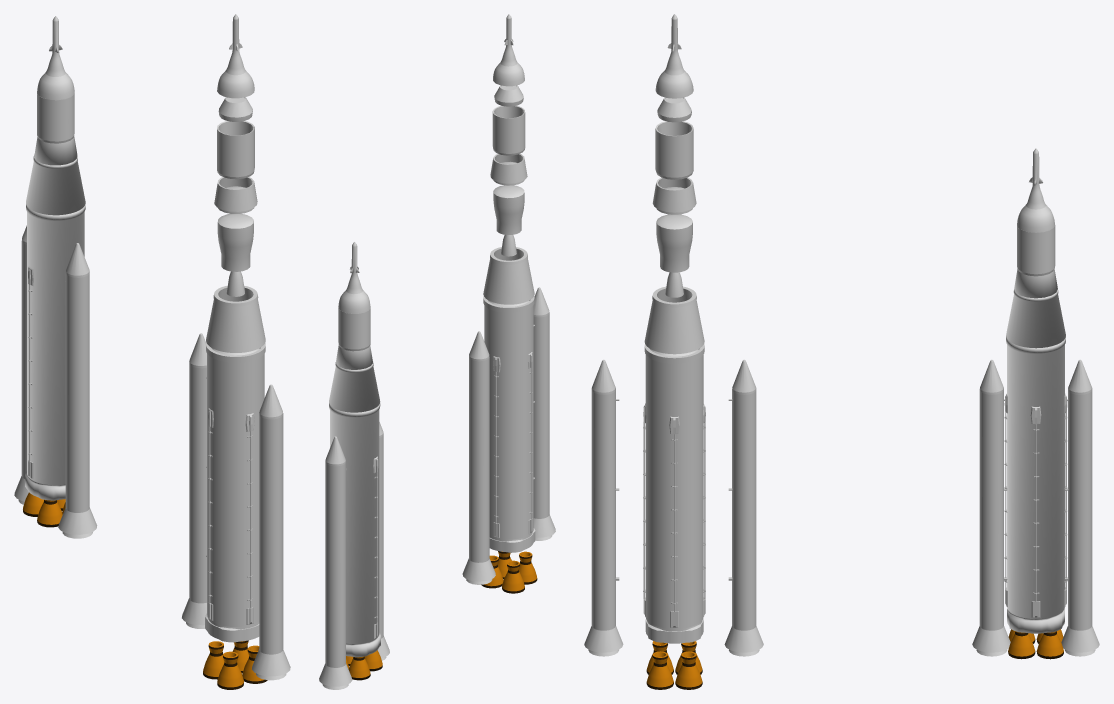
The model's file is space_launch_system.fbx.
The picture shows the model from 3 angles, left to right: view 1: azimuth 30°, elevation 25°; view 2: azimuth 150°, elevation 25°; view 3: azimuth 270°, elevation 25°; orthographic projection. The views are drawn at different scales.
Visible parts, largest first — view 1: space_launch_system, 2Core_Stage_lp.001, 9Solid_Rocket_Booster_01.001, 10Solid_Rocket_booster_02.001, 3Launch_Vehicle.001, 4Cryogenic_Propulsion_stage.001, 1RS-25 Engine_lp.001, 6Service_Module.001, 8Launch_Abort_System.001, 5SpaceCraft_Adapter.001, 7Crew_Module.001; view 2: space_launch_system, 2Core_Stage_lp.001, 10Solid_Rocket_booster_02.001, 9Solid_Rocket_Booster_01.001, 3Launch_Vehicle.001, 4Cryogenic_Propulsion_stage.001, 6Service_Module.001, 1RS-25 Engine_lp.001, 8Launch_Abort_System.001, 5SpaceCraft_Adapter.001, 7Crew_Module.001; view 3: space_launch_system, 2Core_Stage_lp.001, 9Solid_Rocket_Booster_01.001, 10Solid_Rocket_booster_02.001, 3Launch_Vehicle.001, 4Cryogenic_Propulsion_stage.001, 6Service_Module.001, 1RS-25 Engine_lp.001, 8Launch_Abort_System.001, 5SpaceCraft_Adapter.001.
Boxes of the visible parts, x1=… form: space_launch_system: x1=14, y1=16, x2=97, y2=538; 2Core_Stage_lp.001: x1=205, y1=343, x2=265, y2=642; 9Solid_Rocket_Booster_01.001: x1=252, y1=384, x2=290, y2=680; 10Solid_Rocket_booster_02.001: x1=182, y1=333, x2=206, y2=628; 3Launch_Vehicle.001: x1=206, y1=285, x2=265, y2=352; 4Cryogenic_Propulsion_stage.001: x1=217, y1=213, x2=253, y2=296; 1RS-25 Engine_lp.001: x1=203, y1=640, x2=267, y2=689; 6Service_Module.001: x1=217, y1=121, x2=254, y2=179; 8Launch_Abort_System.001: x1=217, y1=14, x2=254, y2=98; 5SpaceCraft_Adapter.001: x1=214, y1=177, x2=257, y2=213; 7Crew_Module.001: x1=218, y1=97, x2=252, y2=121; space_launch_system: x1=319, y1=242, x2=389, y2=689; 2Core_Stage_lp.001: x1=483, y1=296, x2=535, y2=552; 10Solid_Rocket_booster_02.001: x1=462, y1=331, x2=495, y2=584; 9Solid_Rocket_Booster_01.001: x1=533, y1=287, x2=555, y2=540; 3Launch_Vehicle.001: x1=483, y1=247, x2=534, y2=304; 4Cryogenic_Propulsion_stage.001: x1=493, y1=185, x2=524, y2=256; 6Service_Module.001: x1=492, y1=105, x2=525, y2=155; 1RS-25 Engine_lp.001: x1=481, y1=551, x2=537, y2=593; 8Launch_Abort_System.001: x1=493, y1=14, x2=524, y2=86; 5SpaceCraft_Adapter.001: x1=490, y1=153, x2=527, y2=185; 7Crew_Module.001: x1=494, y1=85, x2=523, y2=106; space_launch_system: x1=972, y1=148, x2=1099, y2=659; 2Core_Stage_lp.001: x1=643, y1=344, x2=705, y2=643; 9Solid_Rocket_Booster_01.001: x1=584, y1=359, x2=623, y2=656; 10Solid_Rocket_booster_02.001: x1=724, y1=359, x2=763, y2=656; 3Launch_Vehicle.001: x1=644, y1=286, x2=704, y2=354; 4Cryogenic_Propulsion_stage.001: x1=656, y1=214, x2=692, y2=297; 6Service_Module.001: x1=655, y1=121, x2=693, y2=179; 1RS-25 Engine_lp.001: x1=646, y1=641, x2=702, y2=689; 8Launch_Abort_System.001: x1=655, y1=14, x2=693, y2=98; 5SpaceCraft_Adapter.001: x1=652, y1=177, x2=696, y2=214.
Size of the model in its own units: 2184 by 25552 by 17979.
